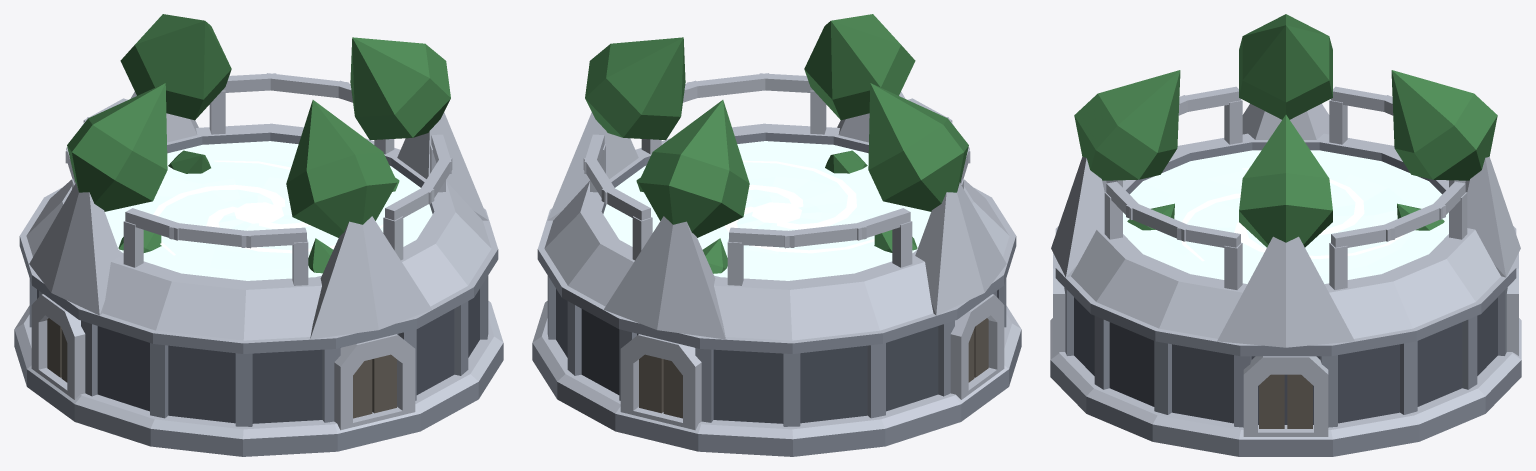
File: heal_station_tiers.glb
3 renders of one model, left to right at view 1: azimuth 30°, elevation 25°; view 2: azimuth 150°, elevation 25°; view 3: azimuth 270°, elevation 25°, orthographic. The views are drawn at different scales.
Parts seen in each view (by area): view 1: HealStationL3, HealStationL2; view 2: HealStationL3, HealStationL2; view 3: HealStationL3, HealStationL2.
Boxes of the visible parts, x1,y1,x2,y2 form: HealStationL3: [14, 14, 503, 456]; HealStationL2: [118, 150, 399, 273]; HealStationL3: [532, 14, 1021, 456]; HealStationL2: [636, 150, 917, 273]; HealStationL3: [1050, 14, 1521, 456]; HealStationL2: [1127, 203, 1444, 230].
Bounding box in the file's own units: 1.84 × 1.24 × 1.84.
